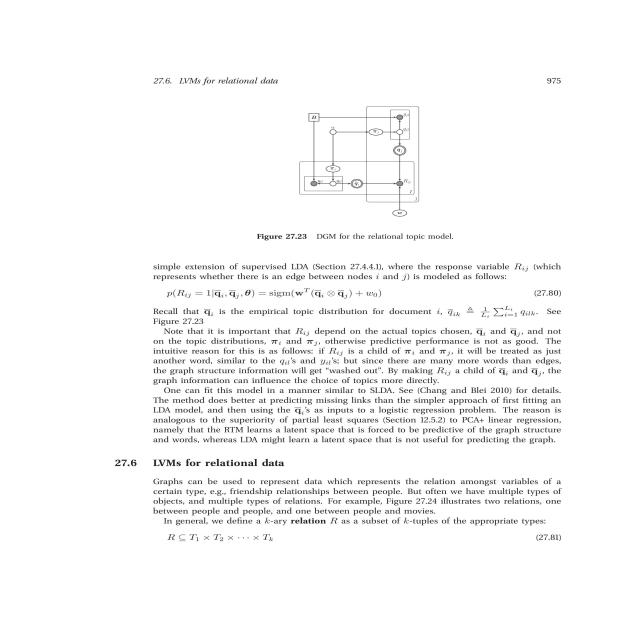diagram: (148, 62, 496, 250)
